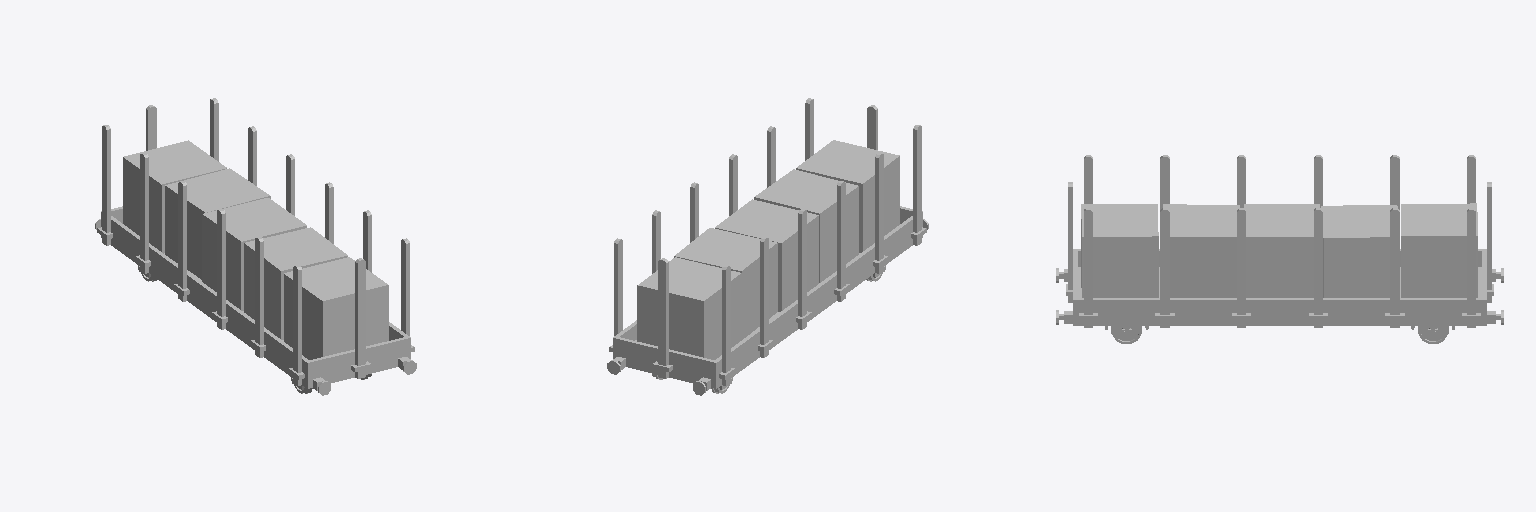
The model's file is dlxtrains_industrial_wagons_stake_type1_loaded5.obj.
3 views of the same model, side by side, from view 1: azimuth 30°, elevation 25°; view 2: azimuth 150°, elevation 25°; view 3: azimuth 270°, elevation 25° (orthographic).
Visible parts, largest first — view 1: dlxtrains_industrial_wagons_stake_type1_loaded5; view 2: dlxtrains_industrial_wagons_stake_type1_loaded5; view 3: dlxtrains_industrial_wagons_stake_type1_loaded5.
Boxes of the visible parts, x1=… form: dlxtrains_industrial_wagons_stake_type1_loaded5: x1=95, y1=98, x2=416, y2=395; dlxtrains_industrial_wagons_stake_type1_loaded5: x1=607, y1=98, x2=928, y2=395; dlxtrains_industrial_wagons_stake_type1_loaded5: x1=1056, y1=155, x2=1503, y2=343.
Bounding box in the file's own units: 17.5 × 21.11 × 58.38.